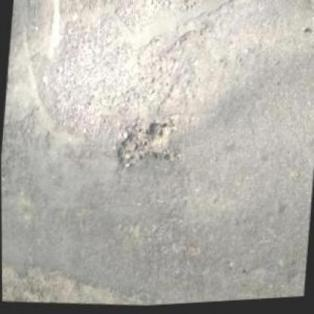Hueco: (112, 114, 173, 171)
